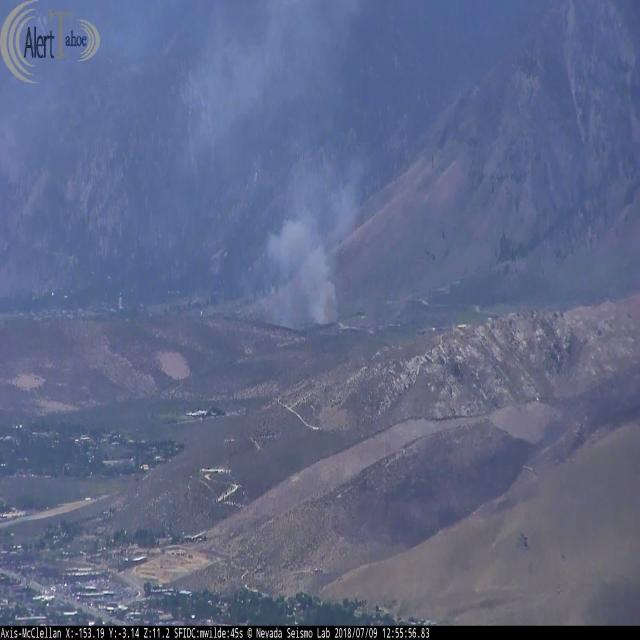smoke: (262, 212, 343, 328)
